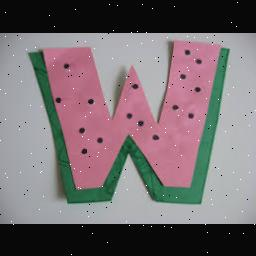w: (23, 36, 231, 208)
